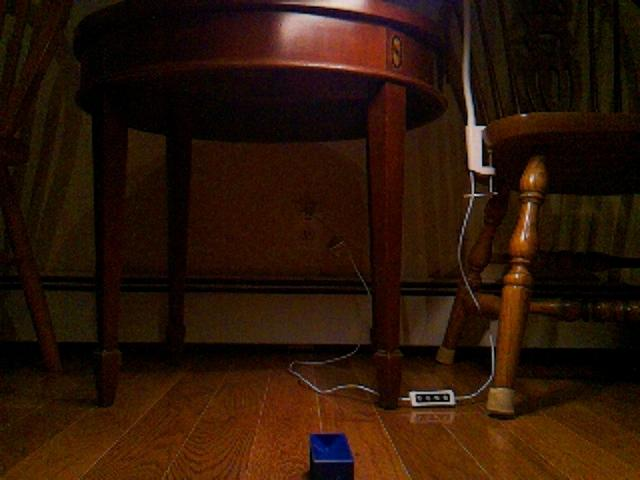blue: (307, 431, 356, 480)
